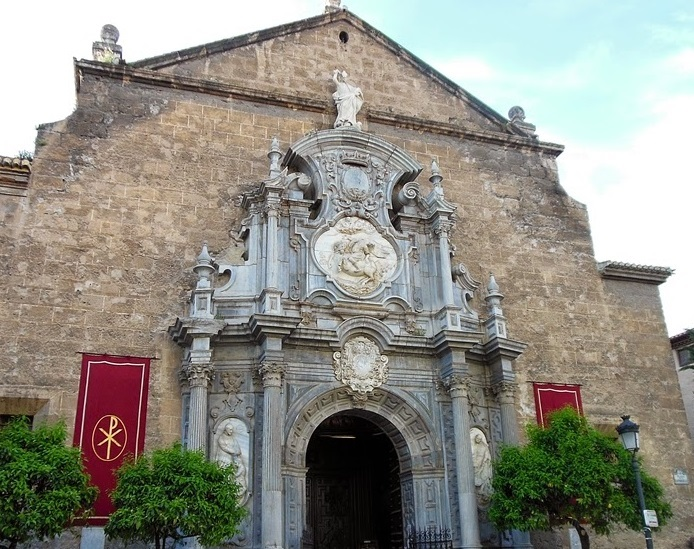arco-medio-punto: (300, 402, 419, 483)
